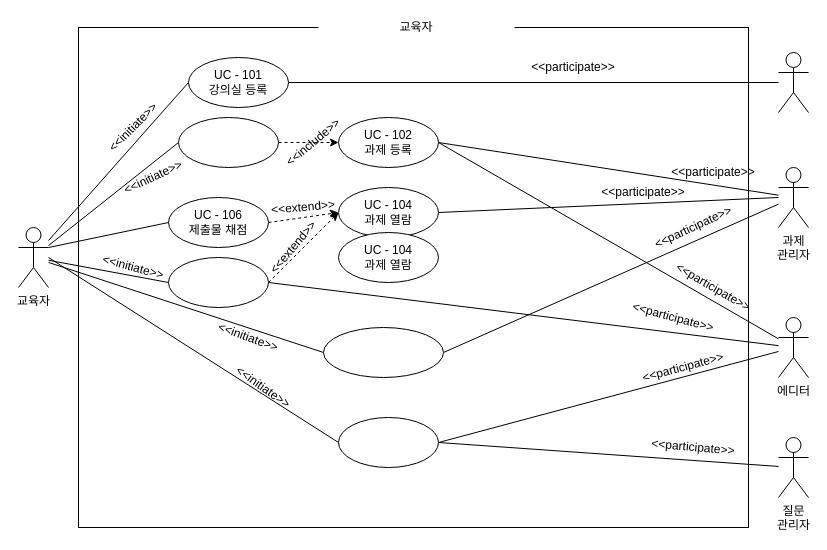
The diagram is 827 pixels wide and 550 high, and some of its shapes have lost their labels. Here are the shapes that lost their labels. From the top down, the box of each, then its label:
(778, 52, 808, 112): 강의실 관리자
(178, 116, 278, 168): UC - 103 과제 수정
(168, 256, 268, 308): UC - 107 제출물 코멘트
(322, 326, 444, 378): UC - 106 과제 진행도 확인
(338, 416, 438, 468): UC - 108 질문 답변
